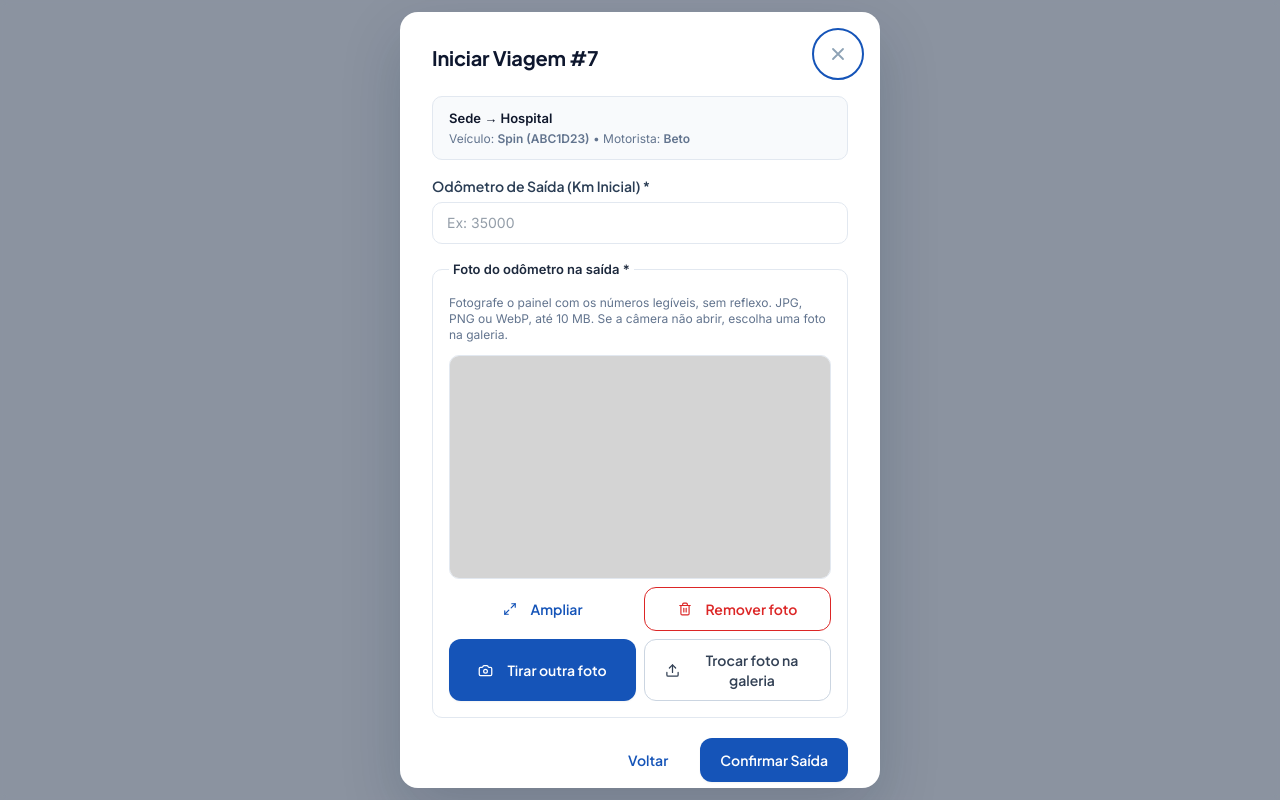
ModalIniciarViagem com foto do odômetro (SCRUM-205/214) › falha na transição: mantém km e foto e não reenvia a mesma foto
Earlier steps of the test are not shown.
Later steps or results of the test are not shown.
In the number field labelled "Odômetro de Saída (Km Inicial) *": {"x": 640, "y": 222} [432,202,848,244], type "35000"
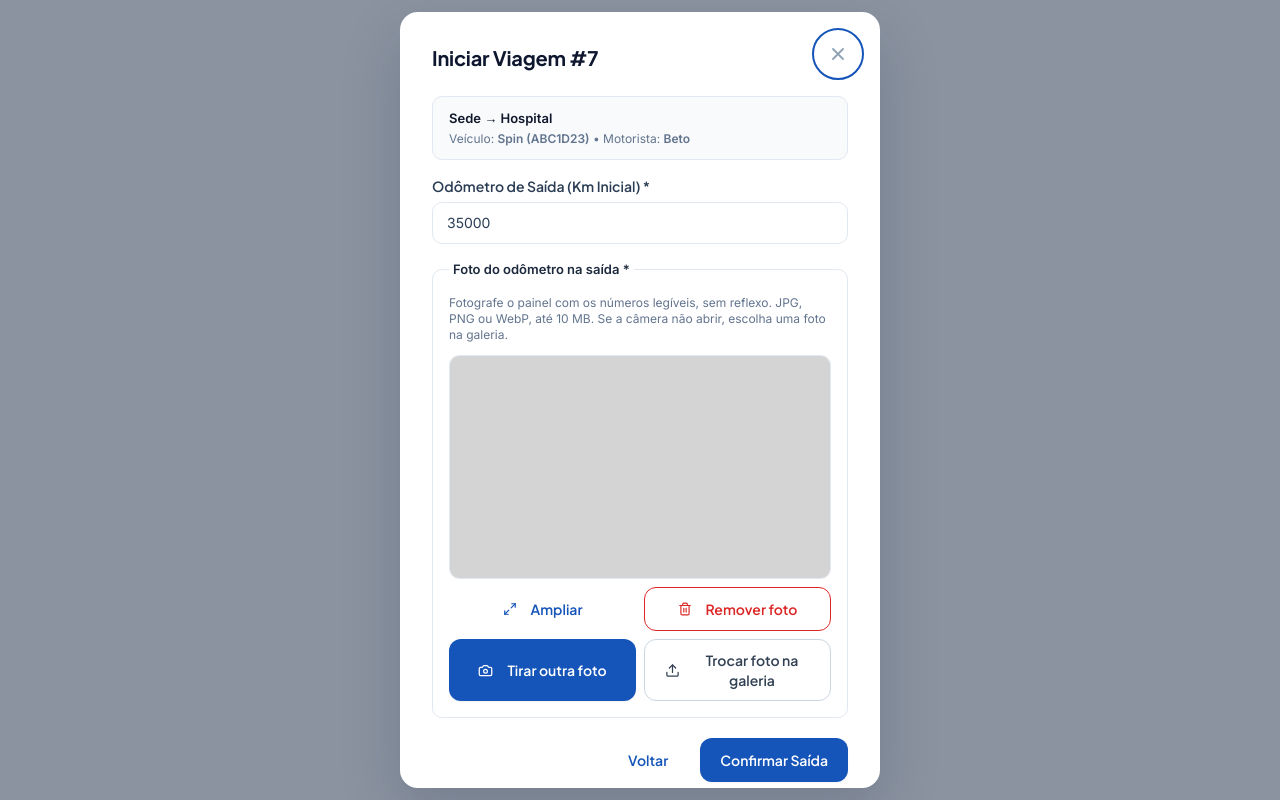
Click the button "Confirmar Saída": {"x": 774, "y": 760} [700,738,848,782]
(page scrolled)
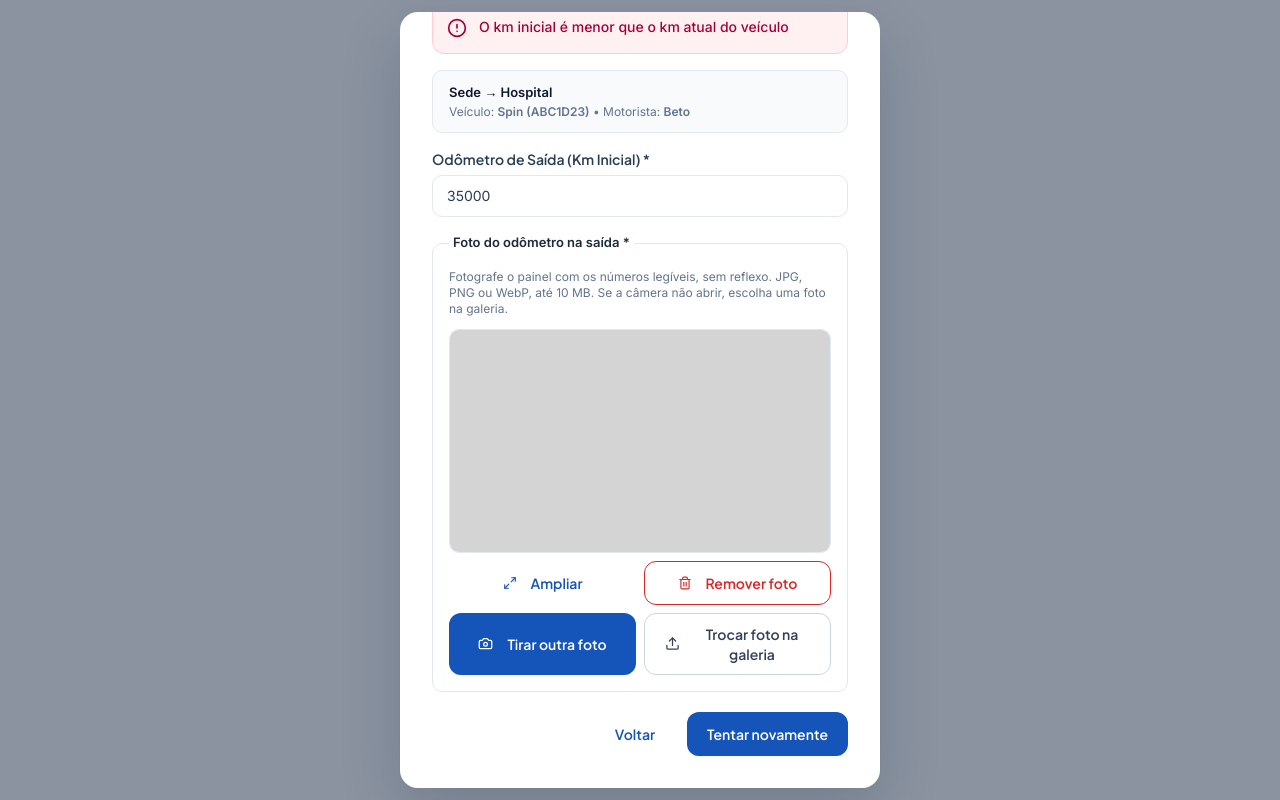
Expected: the text "O km inicial é menor que o km atual do veículo" is shown, [479,16,833,39]
